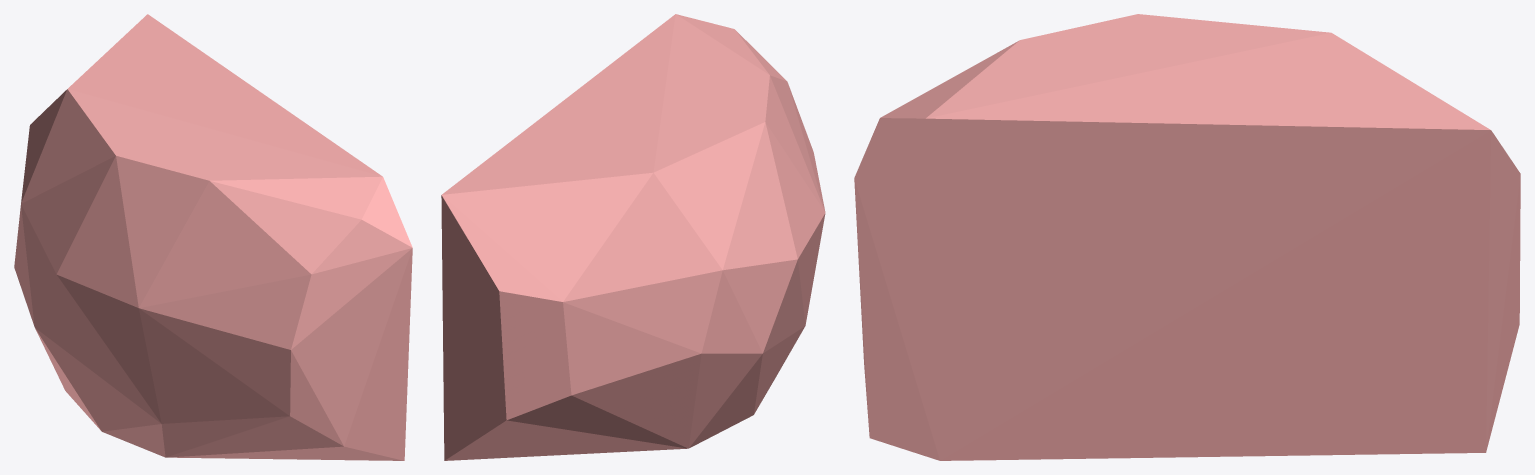
The model's file is dvkr_robot_L1_respondable_PSM2_coll_1.dae.
The picture shows the model from 3 angles, left to right: view 1: azimuth 30°, elevation 25°; view 2: azimuth 150°, elevation 25°; view 3: azimuth 270°, elevation 25°; orthographic projection. The views are drawn at different scales.
Visible parts, largest first — view 1: Node_0000023514CD64F0; view 2: Node_0000023514CD64F0; view 3: Node_0000023514CD64F0.
Part boxes in pixels (x1,y1,x2,y2): Node_0000023514CD64F0: (14,14,412,460); Node_0000023514CD64F0: (441,14,825,460); Node_0000023514CD64F0: (854,14,1520,460).
Bounding box in the file's own units: 0.1427 × 0.1731 × 0.3049.
